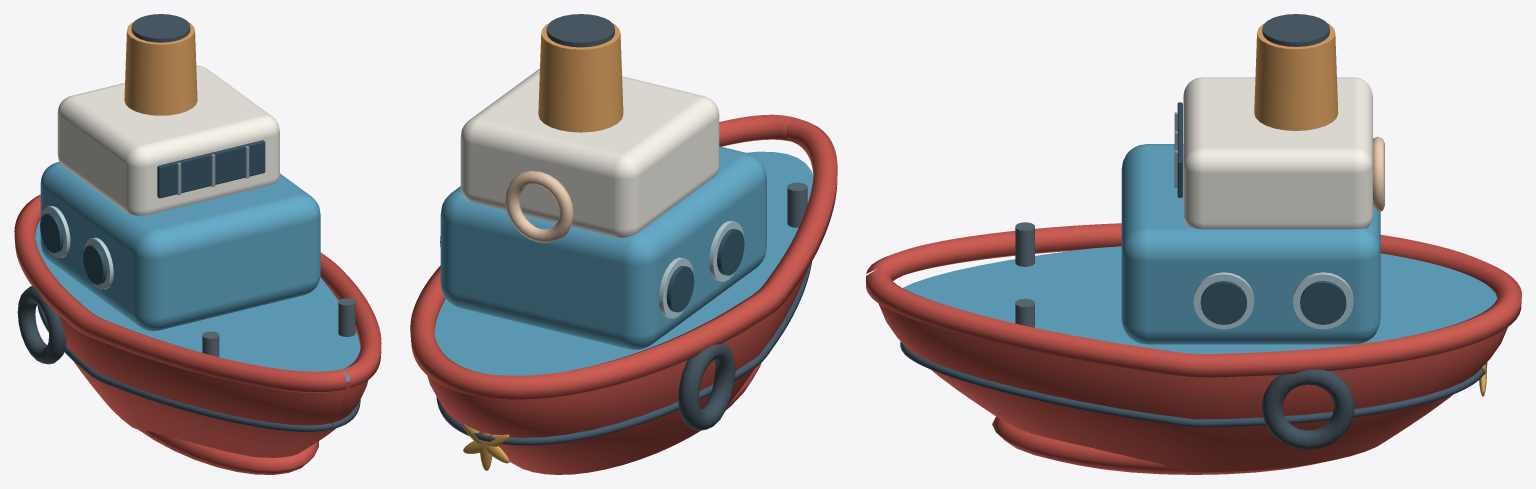
Rendered from Tugboat.glb.
3 renders of one model, left to right at view 1: azimuth 30°, elevation 25°; view 2: azimuth 150°, elevation 25°; view 3: azimuth 270°, elevation 25°, orthographic. The views are drawn at different scales.
Visible parts, largest first — view 1: Tugboat; view 2: Tugboat, LifeRing, Propeller; view 3: Tugboat, LifeRing.
Boxes of the visible parts, <box> form: Tugboat: <box>14,14,381,474</box>; Tugboat: <box>410,14,837,474</box>; LifeRing: <box>505,171,573,242</box>; Propeller: <box>463,424,509,470</box>; Tugboat: <box>866,14,1521,474</box>; LifeRing: <box>1373,136,1384,211</box>.
Bounding box in the file's own units: 1.11 × 1.56 × 2.18.
